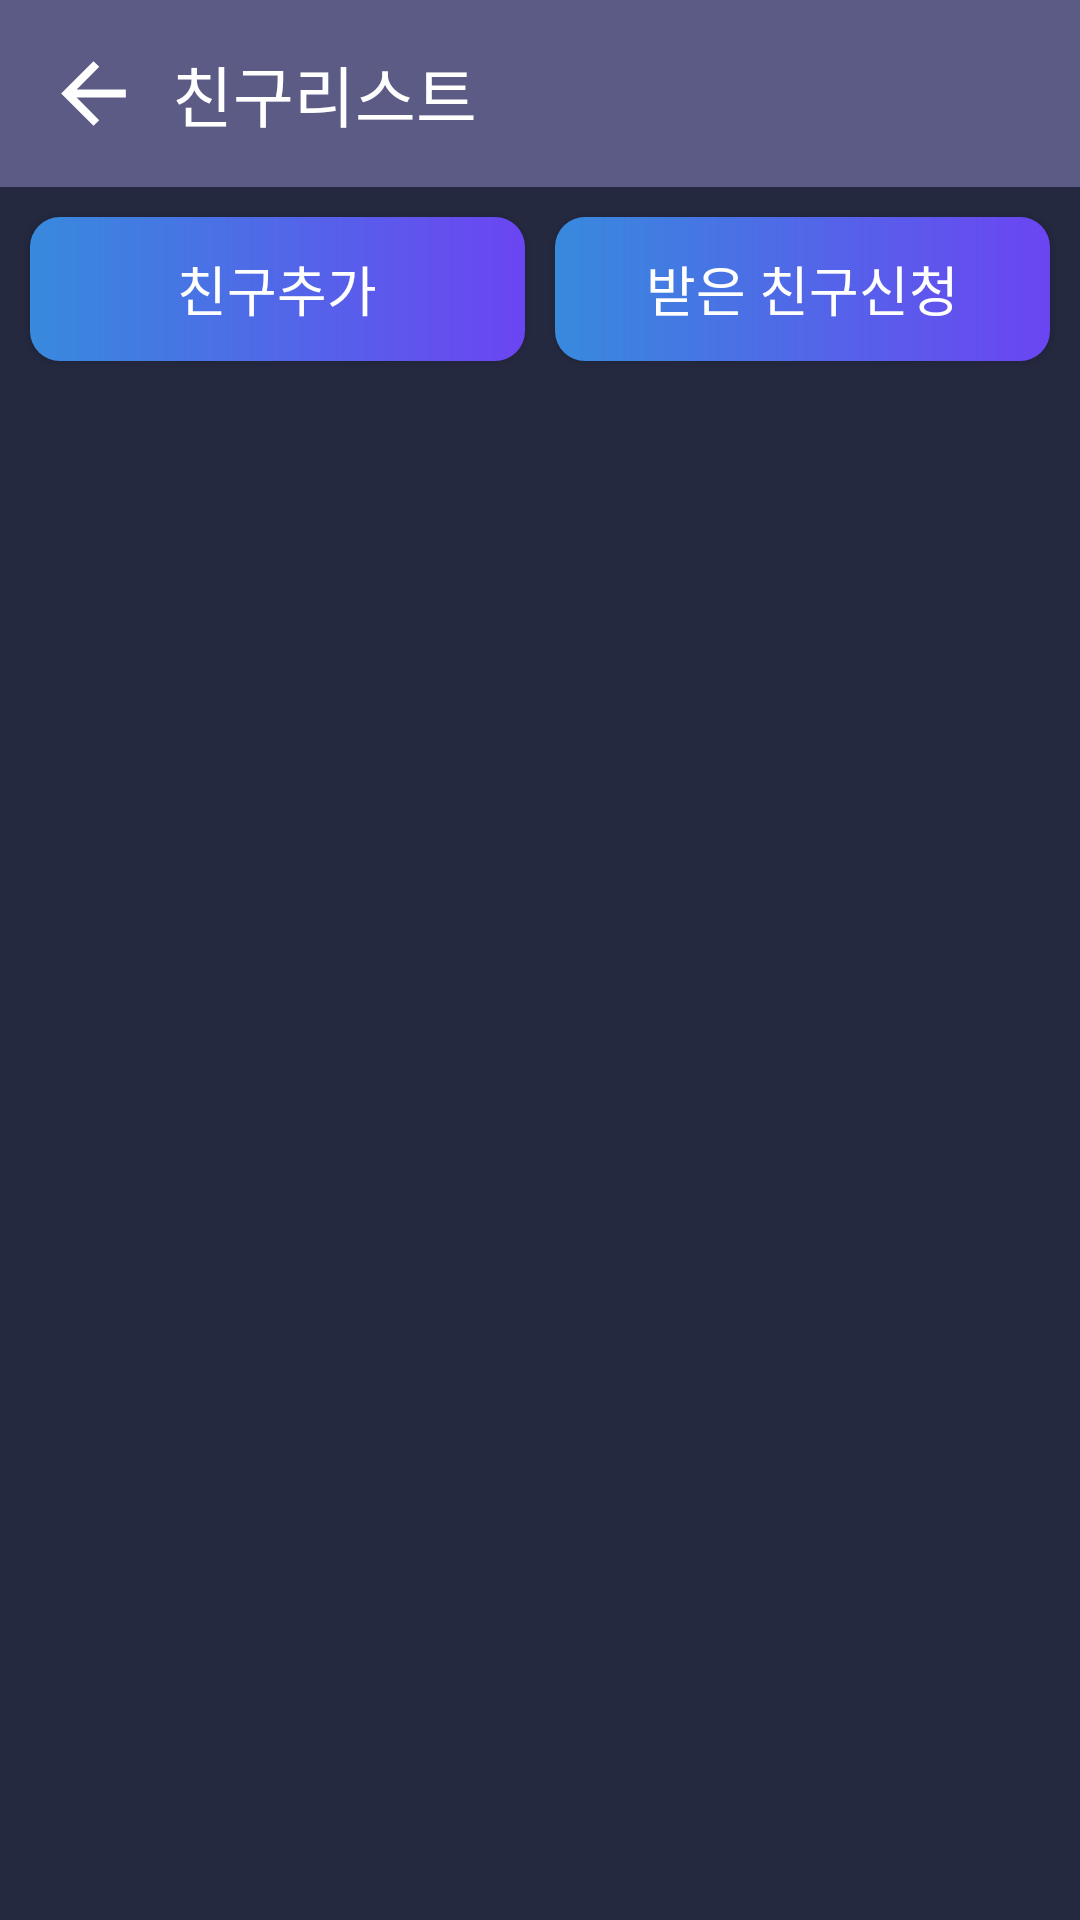

Named icons in this screenshot (1080×1920) and their centers, [x,y]:
arrow back: [93,93]
